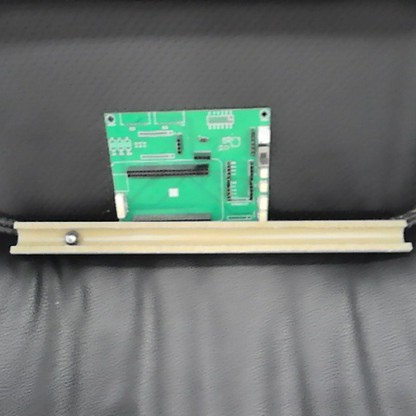ironball: (61, 226, 80, 247)
